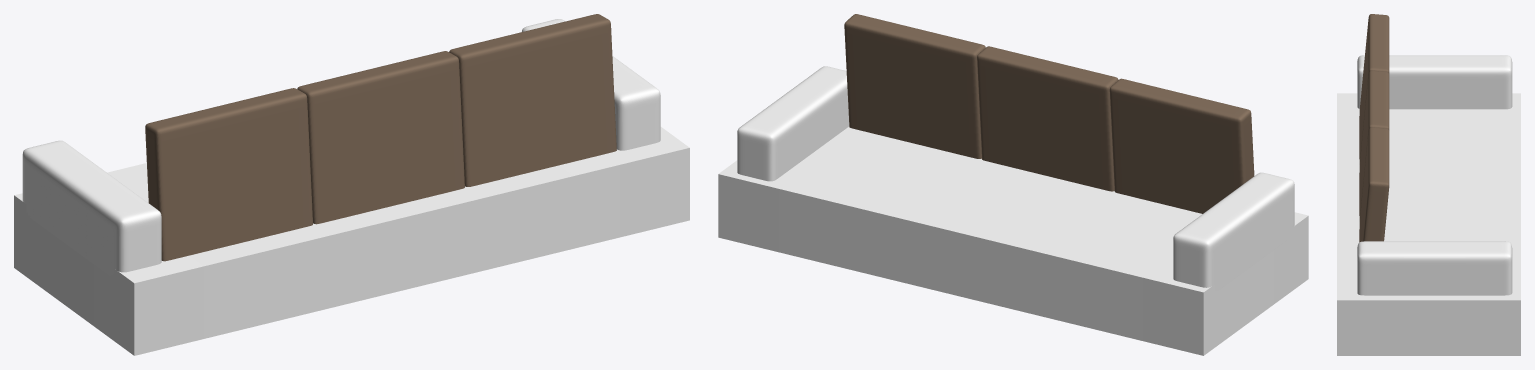
3 views of the same model, side by side, from view 1: azimuth 30°, elevation 25°; view 2: azimuth 150°, elevation 25°; view 3: azimuth 270°, elevation 25° (orthographic). The views are drawn at different scales.
Parts seen in each view (by area): view 1: object 1, MainCouch_BackCushion_1, MainCouch_BackCushion_3, MainCouch_BackCushion_2, MainCouch_Armrest_Left, MainCouch_Armrest_Right; view 2: object 1, MainCouch_BackCushion_2, MainCouch_BackCushion_3, MainCouch_BackCushion_1, MainCouch_Armrest_Left, MainCouch_Armrest_Right; view 3: object 1, MainCouch_Armrest_Right, MainCouch_Armrest_Left, MainCouch_BackCushion_3, MainCouch_BackCushion_2, MainCouch_BackCushion_1.
Boxes of the visible parts, x1,y1,x2,y2 form: object 1: [14, 127, 689, 355]; MainCouch_BackCushion_1: [145, 88, 312, 261]; MainCouch_BackCushion_3: [449, 14, 616, 186]; MainCouch_BackCushion_2: [297, 51, 464, 224]; MainCouch_Armrest_Left: [22, 140, 161, 276]; MainCouch_Armrest_Right: [522, 19, 660, 150]; object 1: [718, 126, 1308, 355]; MainCouch_BackCushion_2: [977, 46, 1118, 191]; MainCouch_BackCushion_3: [844, 14, 985, 158]; MainCouch_BackCushion_1: [1109, 78, 1254, 213]; MainCouch_Armrest_Left: [1173, 172, 1294, 291]; MainCouch_Armrest_Right: [737, 66, 849, 181]; object 1: [1337, 93, 1520, 355]; MainCouch_Armrest_Right: [1357, 241, 1512, 295]; MainCouch_Armrest_Left: [1357, 55, 1512, 109]; MainCouch_BackCushion_3: [1359, 127, 1389, 242]; MainCouch_BackCushion_2: [1359, 70, 1389, 221]; MainCouch_BackCushion_1: [1359, 14, 1389, 164].
Bounding box in the file's own units: 5.12 × 1.75 × 1.92.
